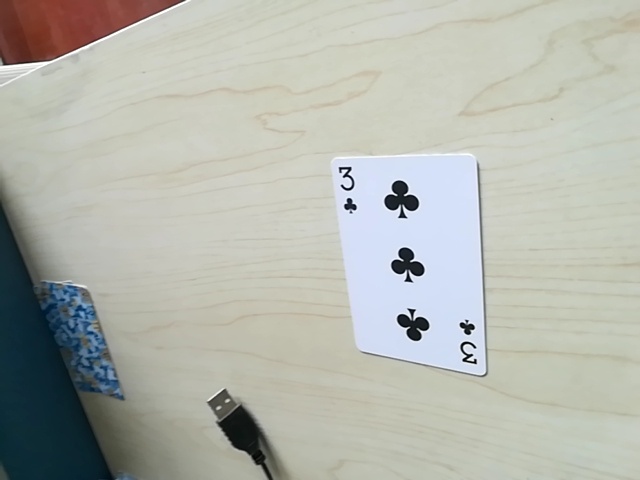mh 3: (330, 161, 362, 217), (456, 313, 484, 376)
